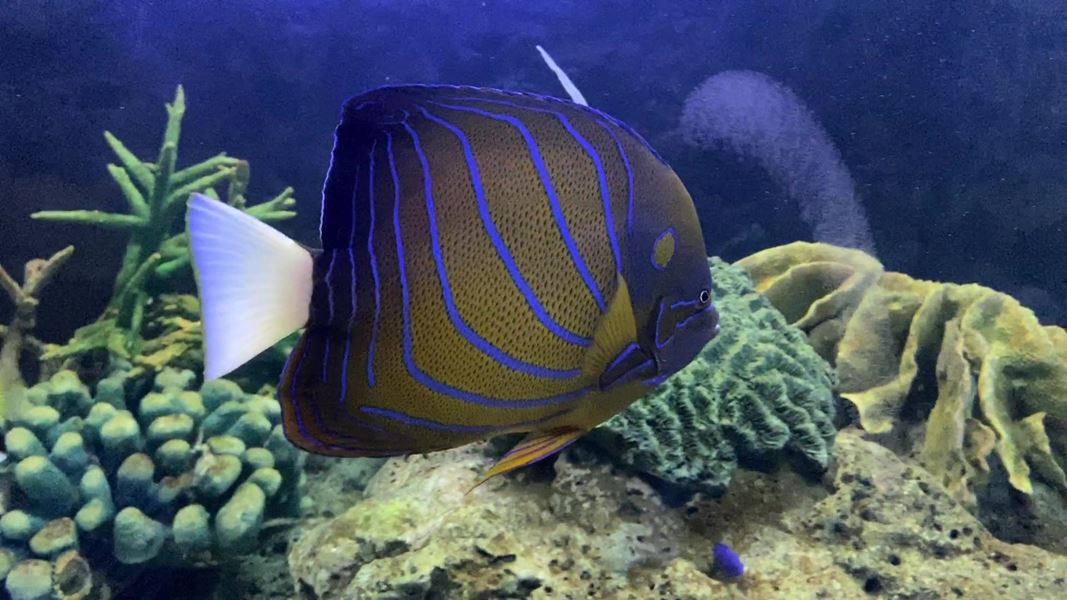Blue ring angelfish: (148, 66, 732, 513)
